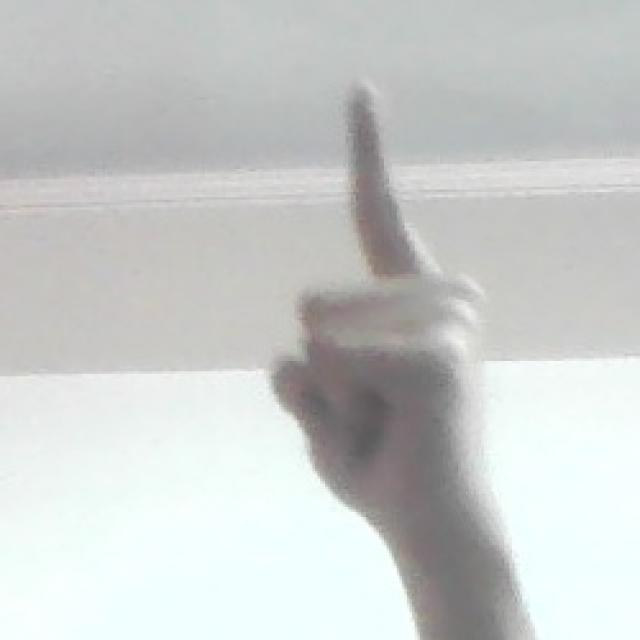Alphabet-I: (222, 59, 526, 564)
